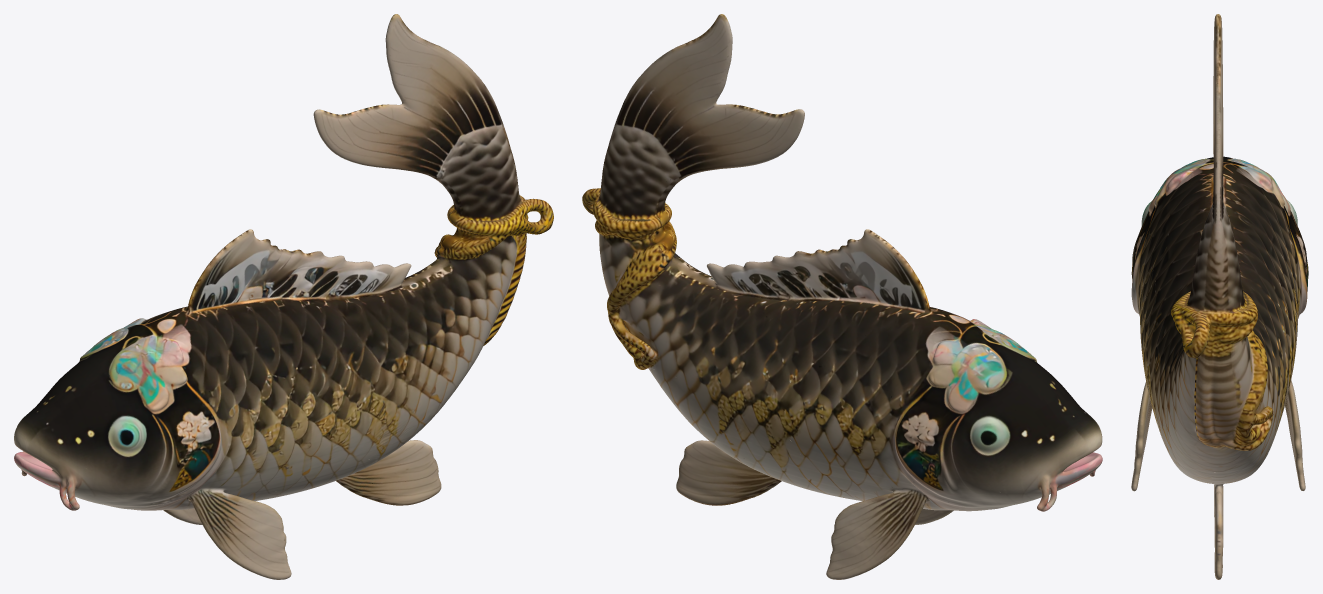
File: mymodel.glb
3 views of the same model, side by side, from view 1: azimuth 30°, elevation 25°; view 2: azimuth 150°, elevation 25°; view 3: azimuth 270°, elevation 25° (orthographic). The views are drawn at different scales.
Parts seen in each view (by area): view 1: texture_v128_online001; view 2: texture_v128_online001; view 3: texture_v128_online001.
Part boxes in pixels (x1,y1,x2,y2): texture_v128_online001: [14, 14, 553, 579]; texture_v128_online001: [582, 14, 1102, 579]; texture_v128_online001: [1131, 14, 1308, 579].
Size of the model in its own units: 2 by 1.82 by 0.5259.
Materials: 1 (1 with a texture image).
